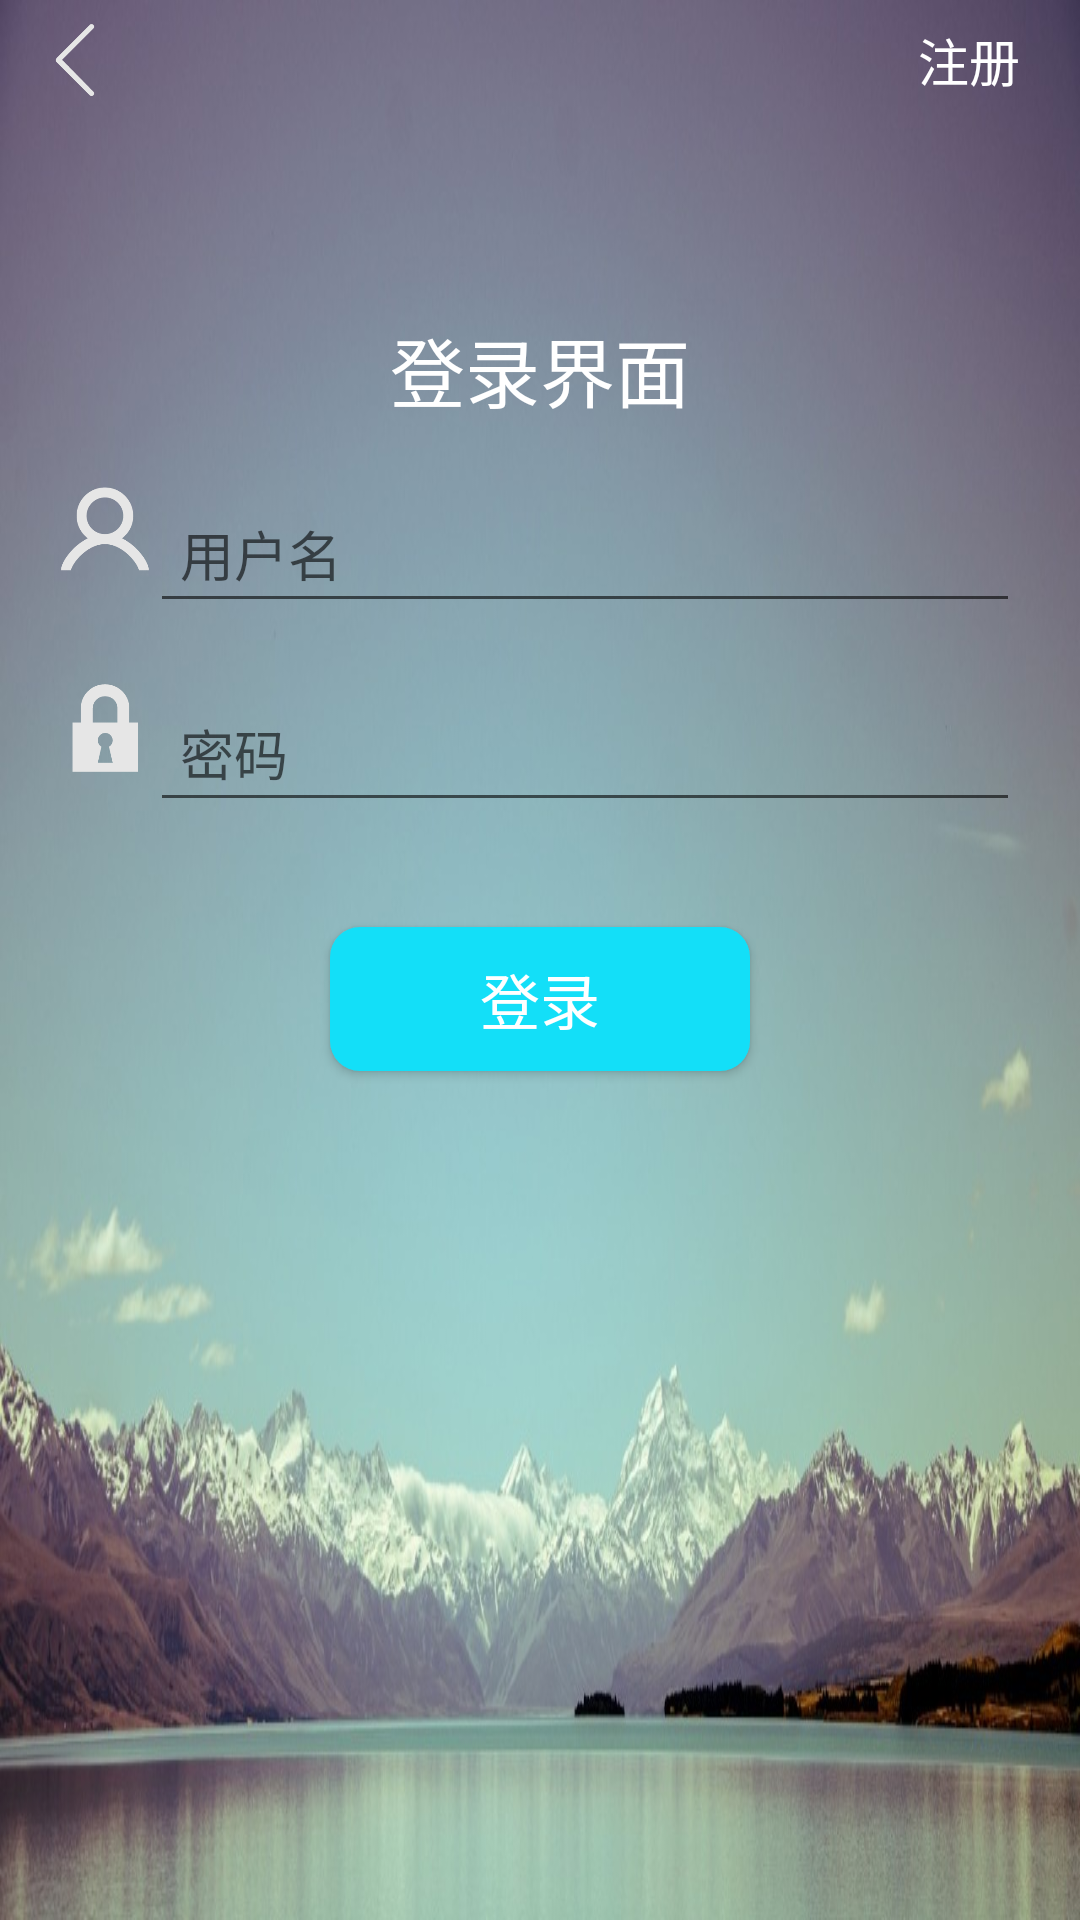

Screen size 1080 × 1920. Icon name, then its center in pixels as [x,y]:
fanhui: [75,60]
